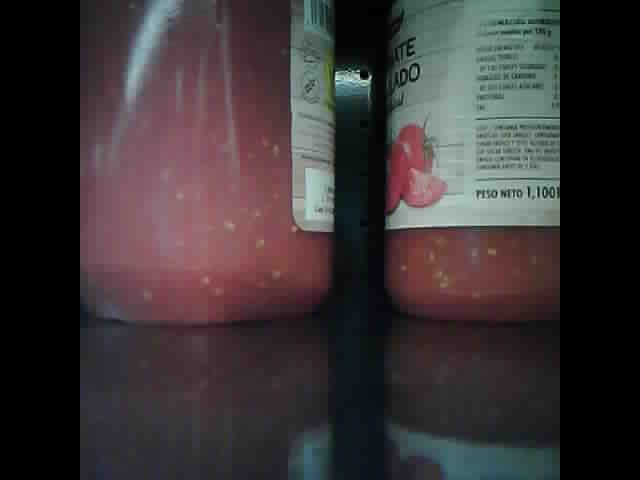tomate: (86, 1, 336, 325), (381, 2, 559, 318)
